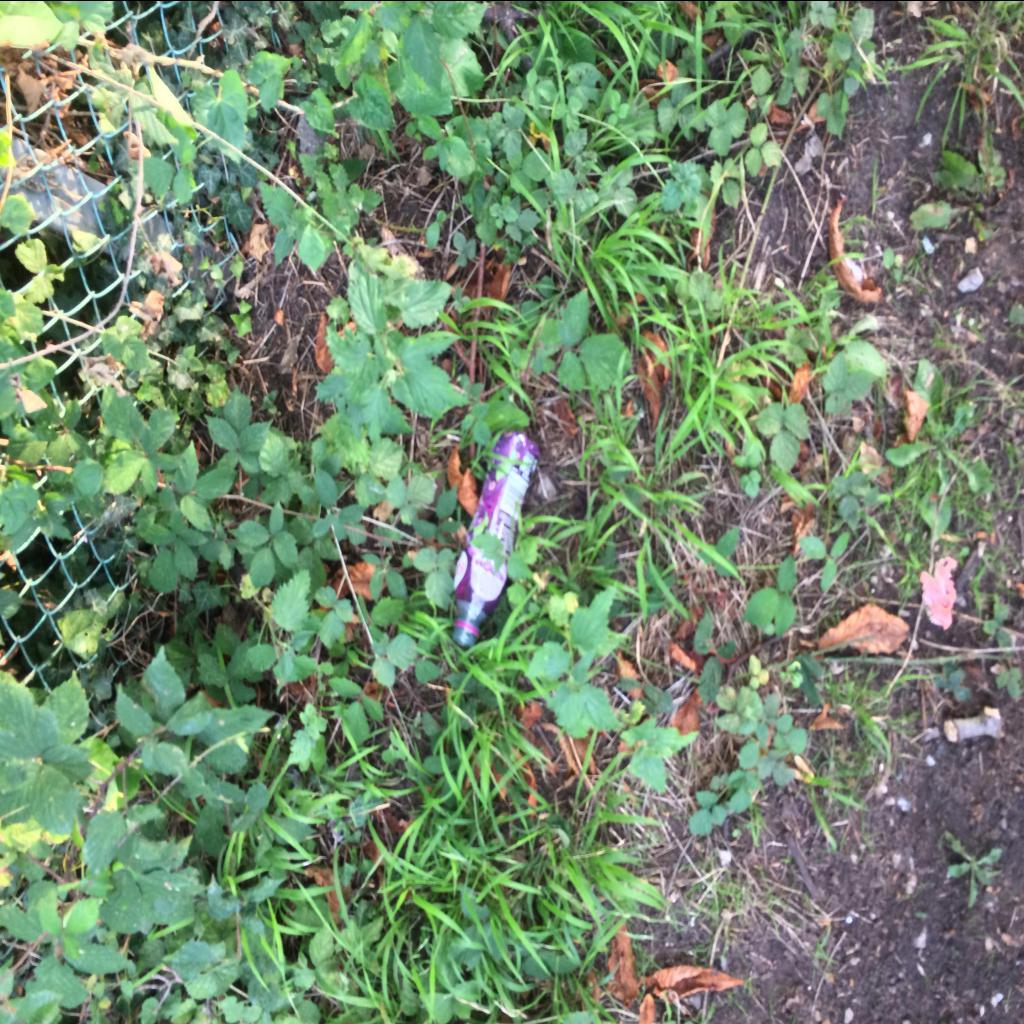Clear plastic bottle: (453, 432, 540, 644)
